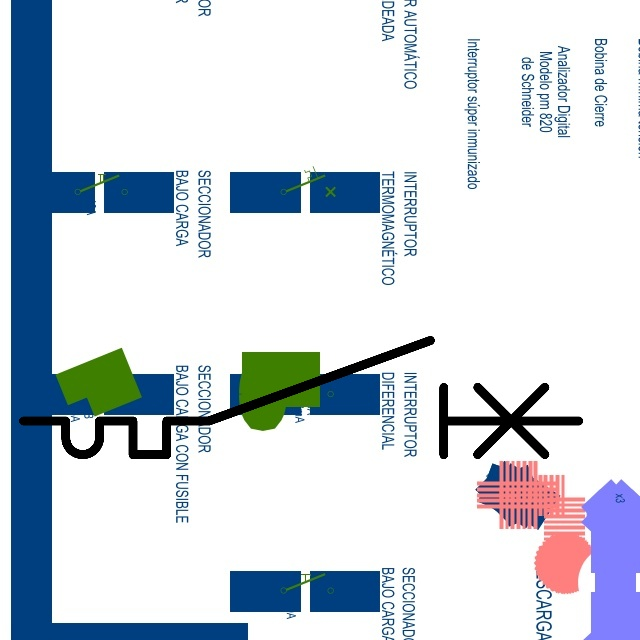interruptor_termomagnetico: (9, 326, 593, 469)
